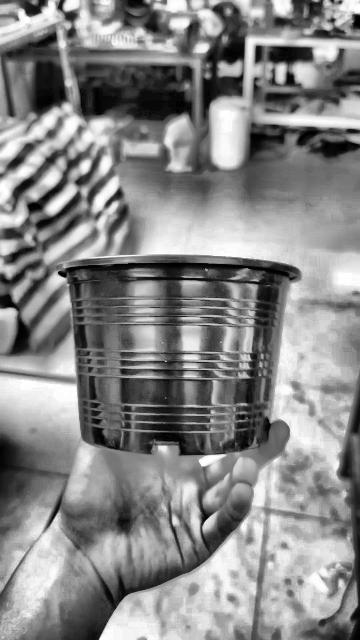pot: (57, 255, 299, 455)
